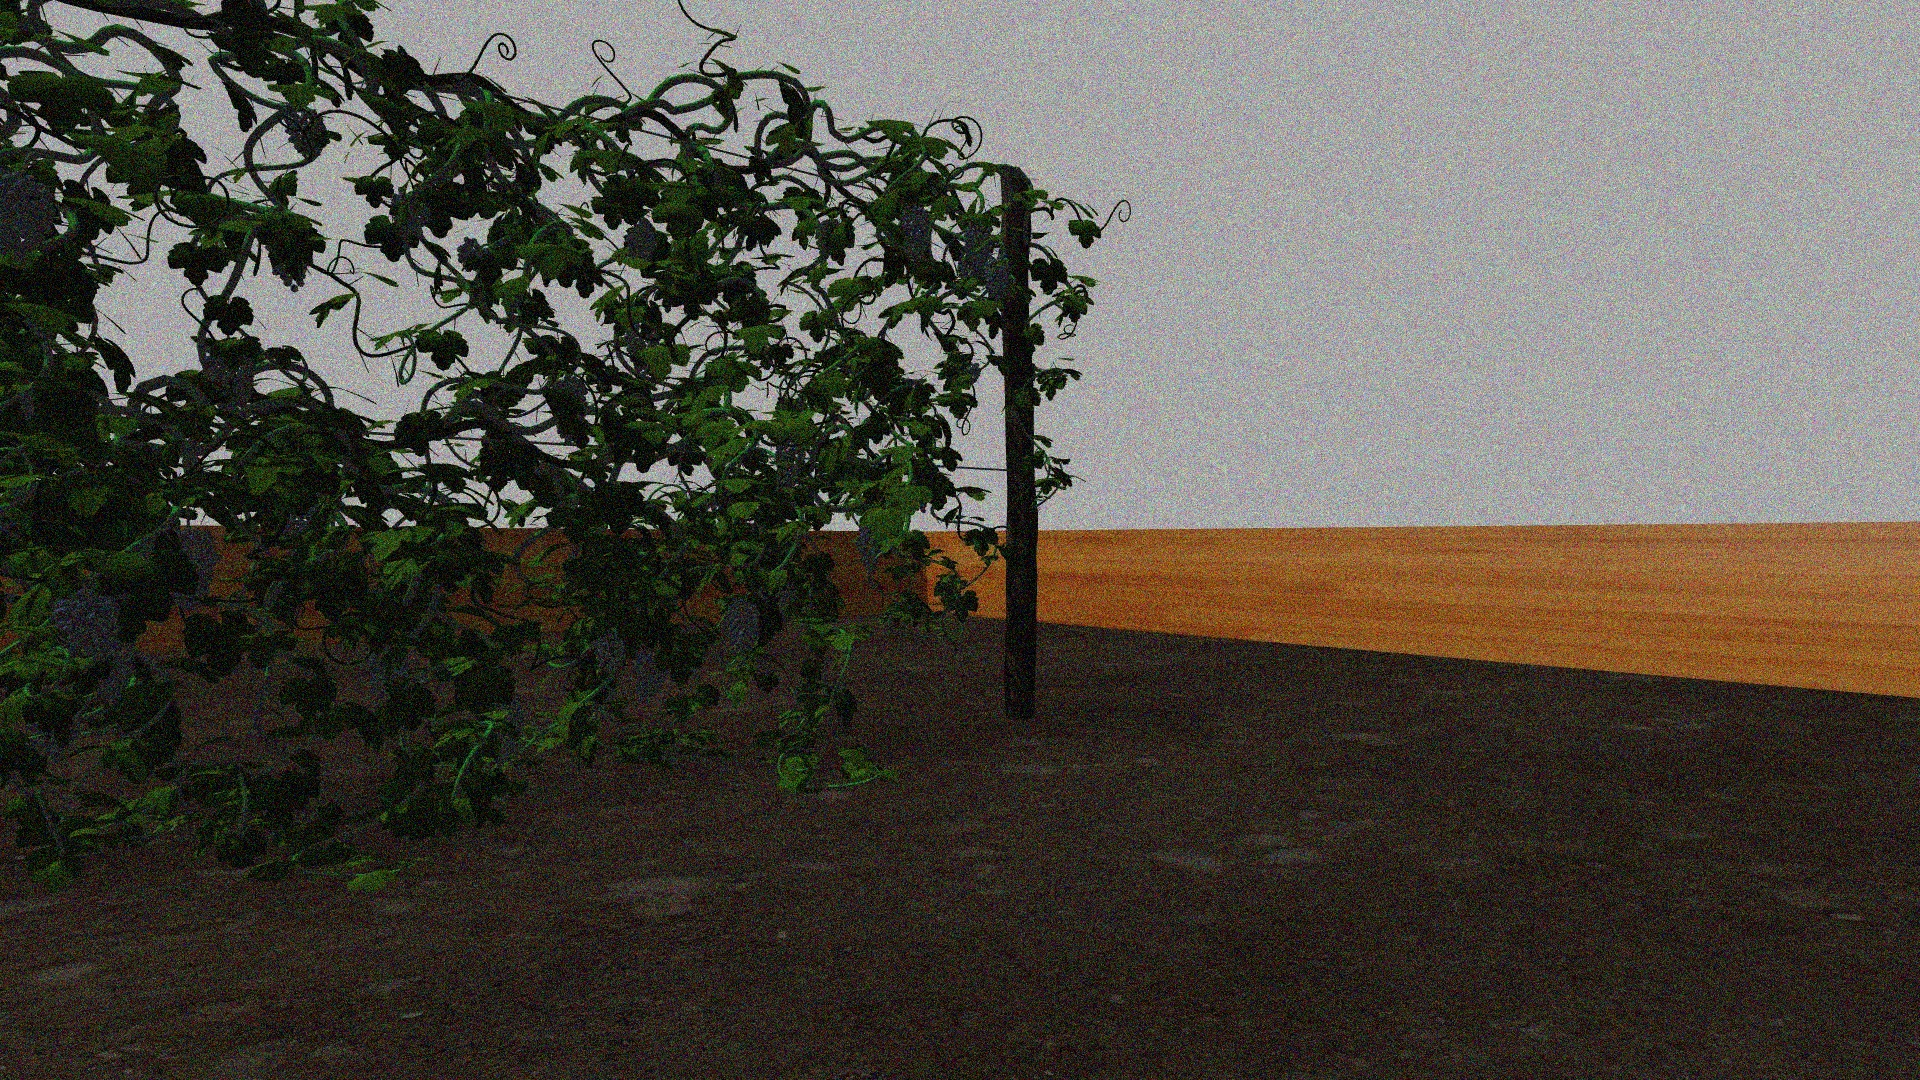grape: (55, 589, 119, 663), (166, 525, 222, 608), (5, 174, 57, 255), (203, 345, 257, 410), (92, 642, 137, 707), (491, 690, 527, 767), (367, 646, 411, 698), (723, 597, 761, 657), (633, 644, 669, 704), (285, 105, 326, 157), (899, 204, 931, 266), (964, 220, 996, 270), (592, 633, 626, 676), (455, 233, 491, 274), (982, 258, 1014, 302), (855, 529, 884, 571), (625, 224, 658, 258)
